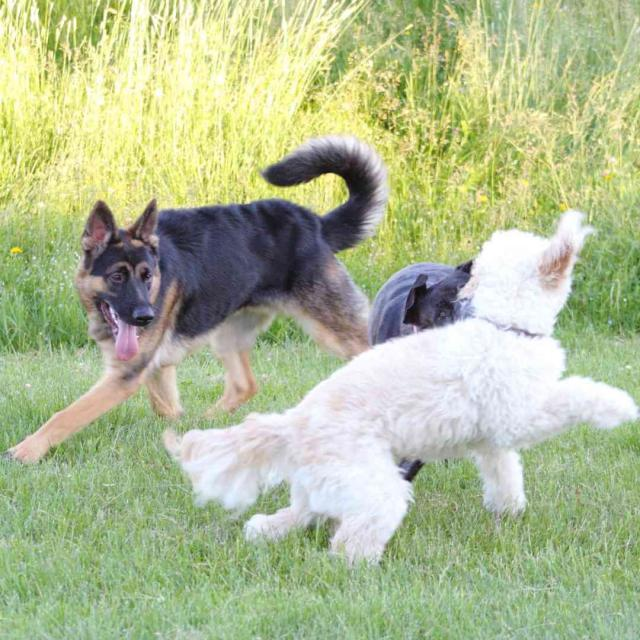GERMAN_SHEPHERD: (24, 110, 407, 509)
